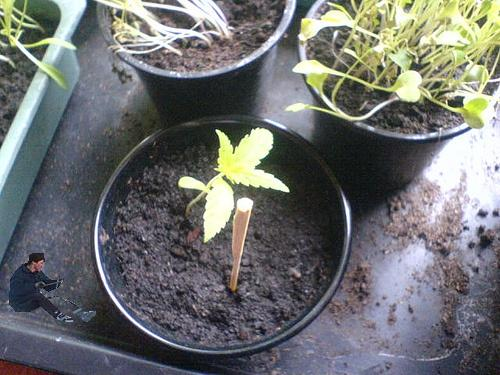tampered: (10, 254, 96, 322)
